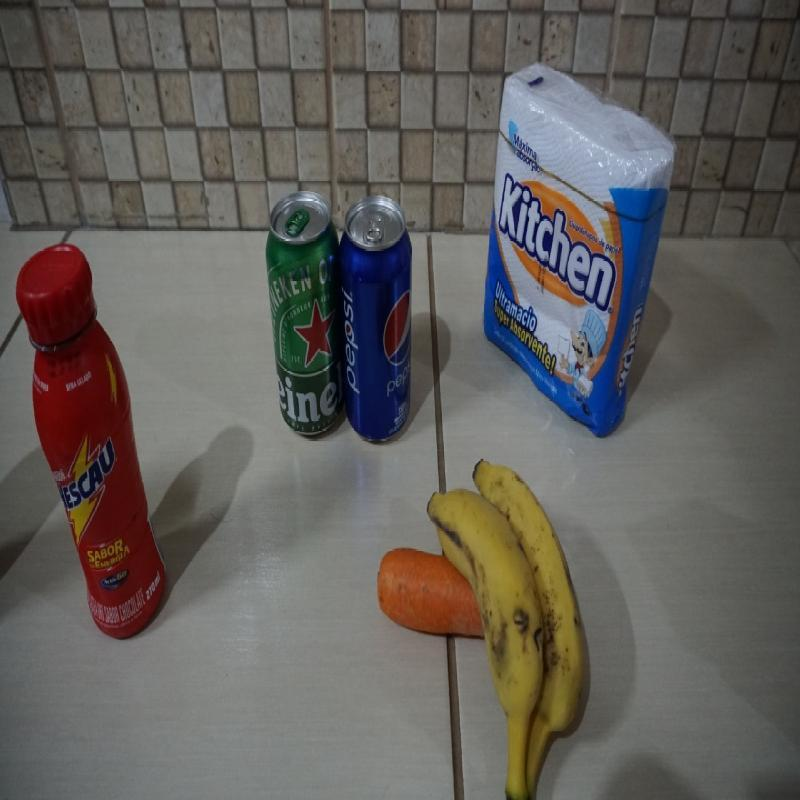Banana: (427, 449, 598, 800), (424, 456, 588, 798)
Beer can: (267, 180, 343, 450), (265, 188, 341, 442)
Carrot: (373, 548, 489, 649), (375, 540, 478, 642)
Chocolate Milk: (15, 242, 167, 641), (19, 238, 164, 644)
Napkin: (485, 49, 670, 459), (483, 62, 679, 440)
Soda can: (338, 179, 412, 440), (341, 192, 413, 446)
